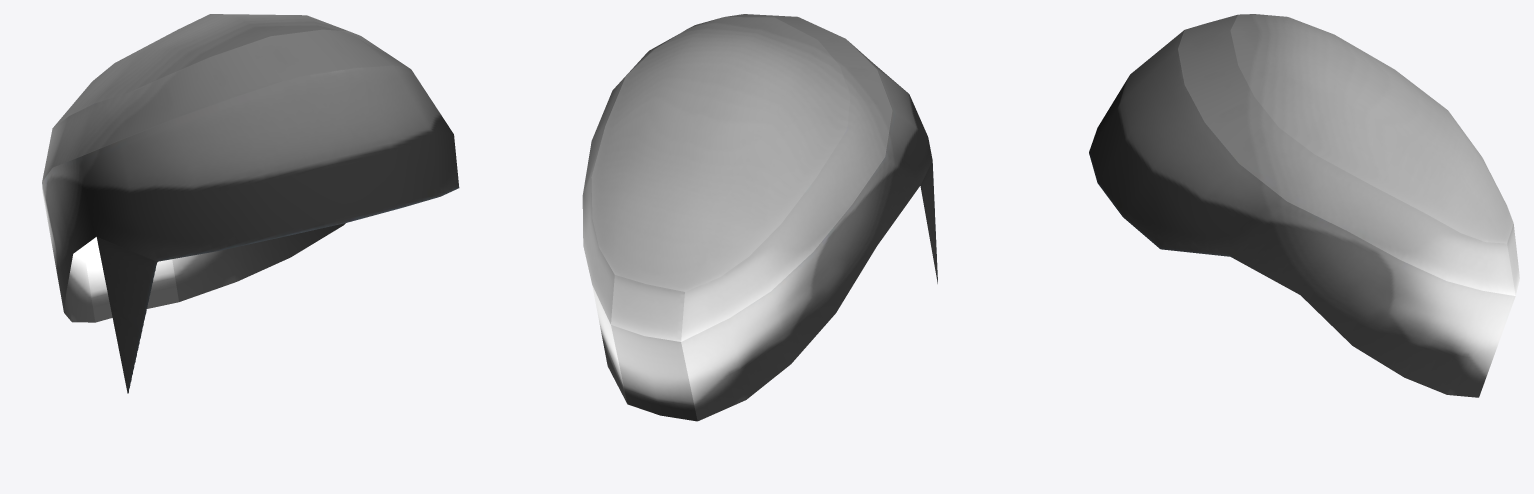
Rendered from IG_Helmat_SnowBoss_Lv4.fbx.
3 views of the same model, side by side, from view 1: azimuth 30°, elevation 25°; view 2: azimuth 150°, elevation 25°; view 3: azimuth 270°, elevation 25° (orthographic). The views are drawn at different scales.
Parts seen in each view (by area): view 1: Helmets_AntiFreeze; view 2: Helmets_AntiFreeze; view 3: Helmets_AntiFreeze.
Part boxes in pixels (<box>): Helmets_AntiFreeze: <box>42,14,459,393</box>; Helmets_AntiFreeze: <box>582,14,937,421</box>; Helmets_AntiFreeze: <box>1089,14,1519,397</box>.
Bounding box in the file's own units: 0.6752 × 0.6243 × 0.6835.
